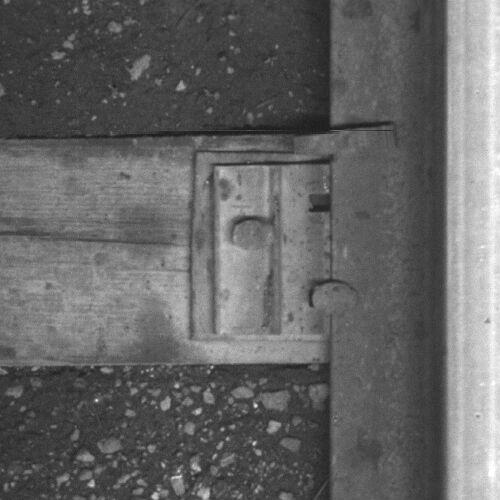crutch: (290, 123, 401, 156)
do: (212, 164, 357, 334)
hole_do: (300, 184, 341, 223)
rail: (443, 1, 500, 500)
tie_wood: (1, 136, 329, 364)
wood_crack: (1, 226, 183, 252)
